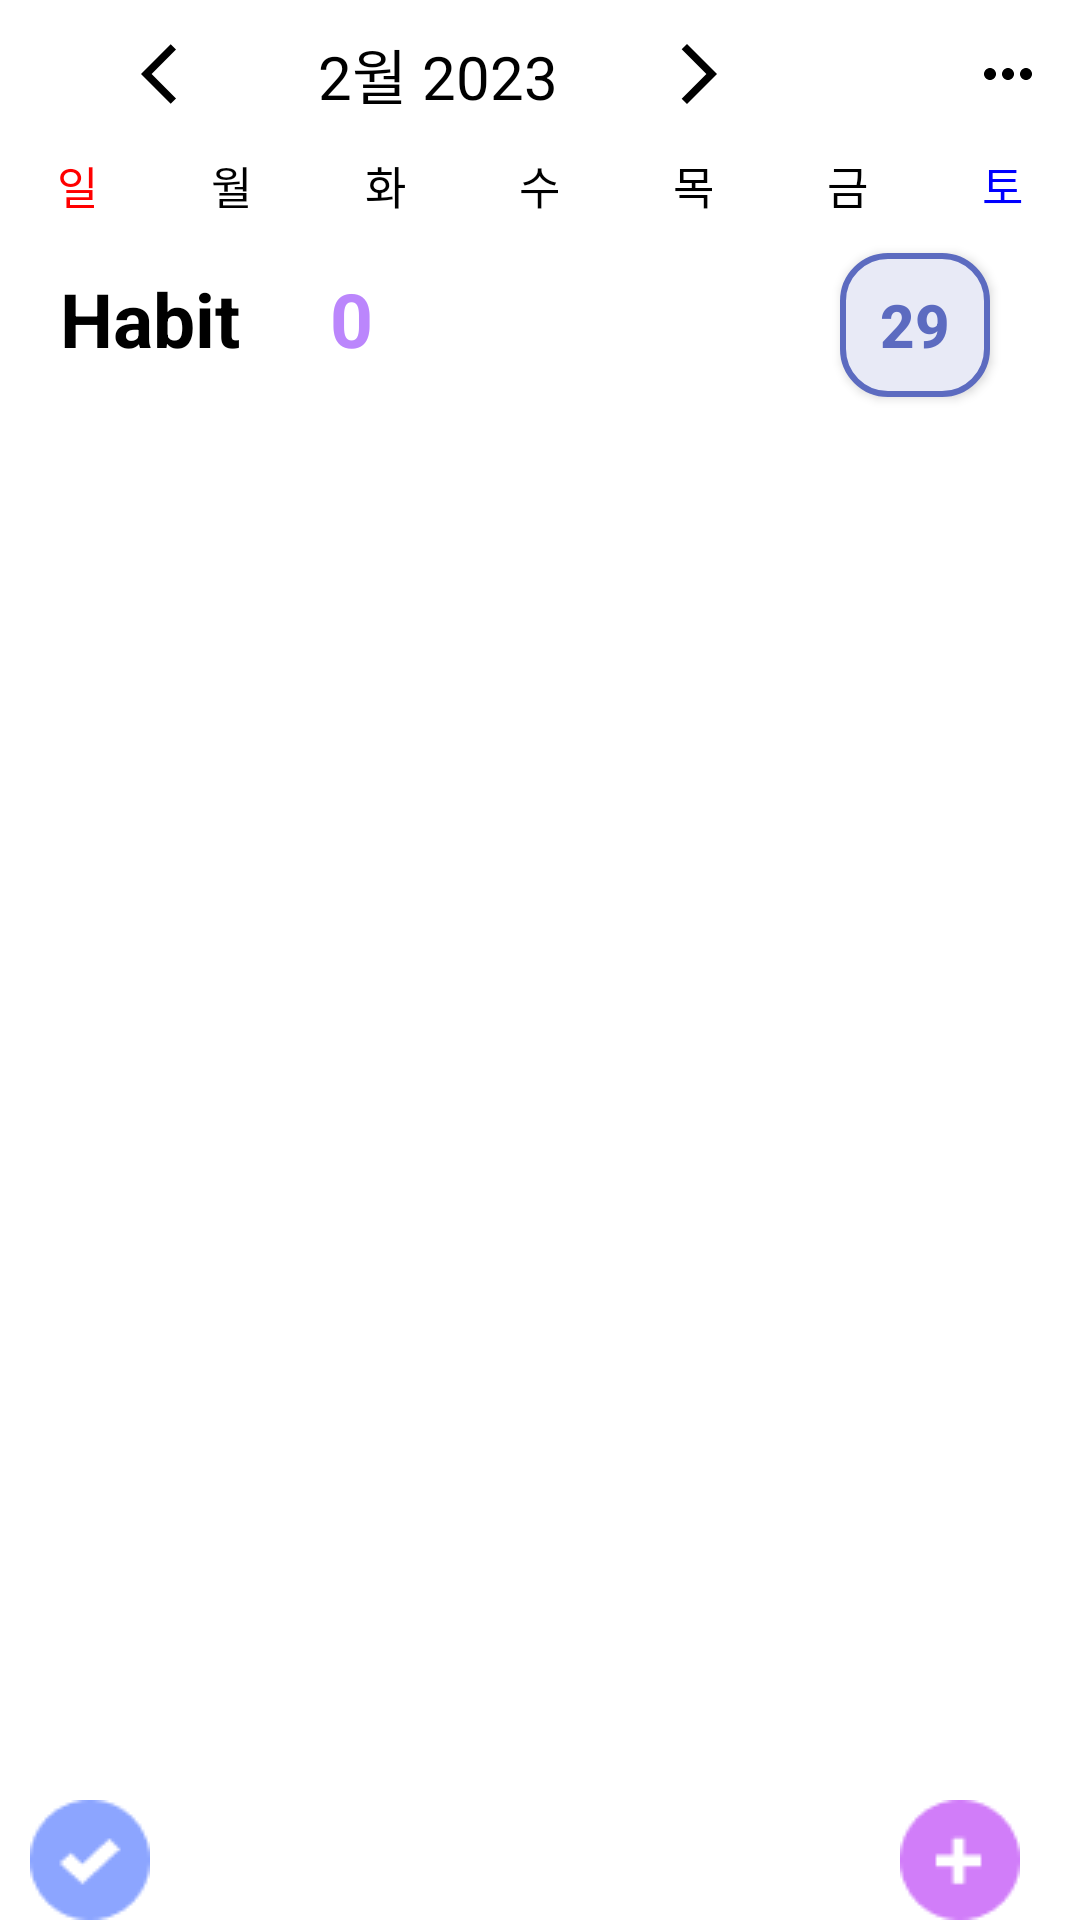

Named icons in this screenshot (1080x1920) and their bounding boxes, (x1, y1, x2, y2):
more horiz: (984, 68, 1032, 80)
next month: (682, 44, 717, 104)
nfc check: (30, 1800, 150, 1920)
plus: (900, 1800, 1020, 1920)
pre month: (141, 44, 176, 104)
